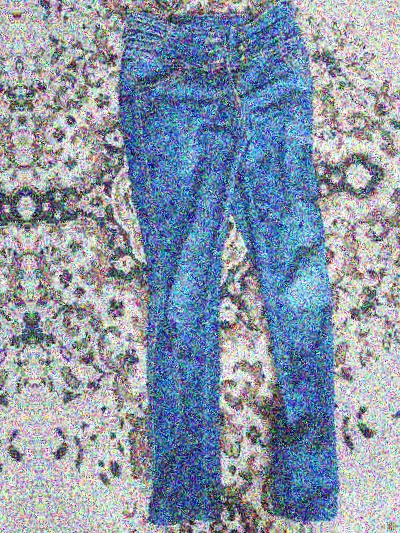Pants: (92, 0, 378, 513)
